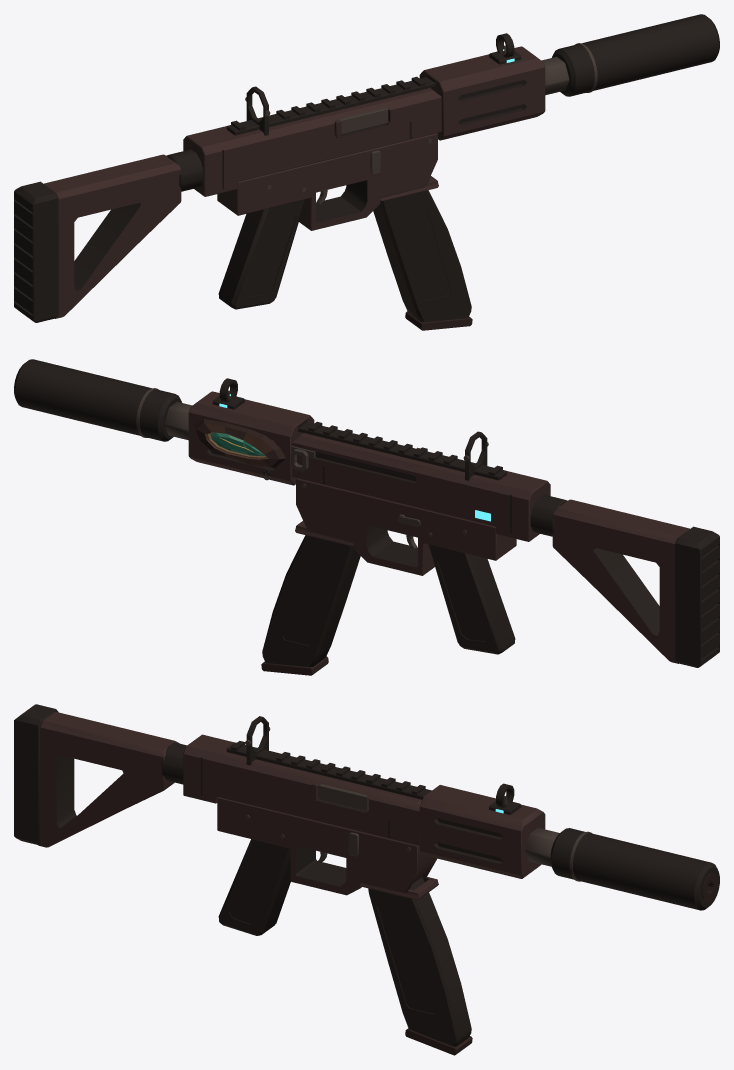
Rendered from Spectre_Rootglass_v01.fbx.
The picture shows the model from 3 angles, top to bottom: view 1: azimuth 30°, elevation 25°; view 2: azimuth 150°, elevation 25°; view 3: azimuth 330°, elevation 25°; orthographic projection.
Parts seen in each view (by area): view 1: Spectre_Receiver, Spectre_Stock, Spectre_Mag, Spectre_Suppressor, Spectre_Handguard, Spectre_Grip, Spectre_Sights, Spectre_Bolt; view 2: Spectre_Receiver, Spectre_Stock, Spectre_Mag, Spectre_Suppressor, Spectre_Grip, Spectre_Handguard, Rootglass_Left_CarvedShell, Spectre_Sights, Rootglass_Left_FacetedMineral; view 3: Spectre_Receiver, Spectre_Stock, Spectre_Mag, Spectre_Suppressor, Spectre_Handguard, Spectre_Grip, Spectre_Sights, Spectre_Bolt.
Boxes of the visible parts, x1,y1,x2,y2 form: Spectre_Receiver: [183, 74, 441, 230]; Spectre_Stock: [14, 149, 203, 322]; Spectre_Mag: [373, 190, 472, 330]; Spectre_Suppressor: [541, 14, 719, 96]; Spectre_Handguard: [419, 46, 545, 140]; Spectre_Grip: [218, 199, 305, 309]; Spectre_Sights: [245, 33, 521, 135]; Spectre_Bolt: [340, 107, 388, 134]; Spectre_Receiver: [292, 419, 550, 575]; Spectre_Stock: [530, 494, 719, 667]; Spectre_Mag: [261, 535, 360, 675]; Spectre_Suppressor: [14, 359, 192, 441]; Spectre_Grip: [428, 544, 515, 654]; Spectre_Handguard: [188, 391, 314, 485]; Rootglass_Left_CarvedShell: [195, 419, 285, 467]; Spectre_Sights: [212, 378, 488, 480]; Rootglass_Left_FacetedMineral: [210, 432, 264, 455]; Spectre_Receiver: [183, 734, 438, 900]; Spectre_Stock: [14, 704, 186, 847]; Spectre_Mag: [368, 877, 472, 1055]; Spectre_Suppressor: [525, 827, 719, 910]; Spectre_Handguard: [419, 785, 545, 878]; Spectre_Grip: [218, 839, 290, 935]; Spectre_Sights: [245, 716, 521, 814]; Spectre_Bolt: [319, 784, 368, 810].
Size of the model in its own units: 297 by 116 by 21.1.
